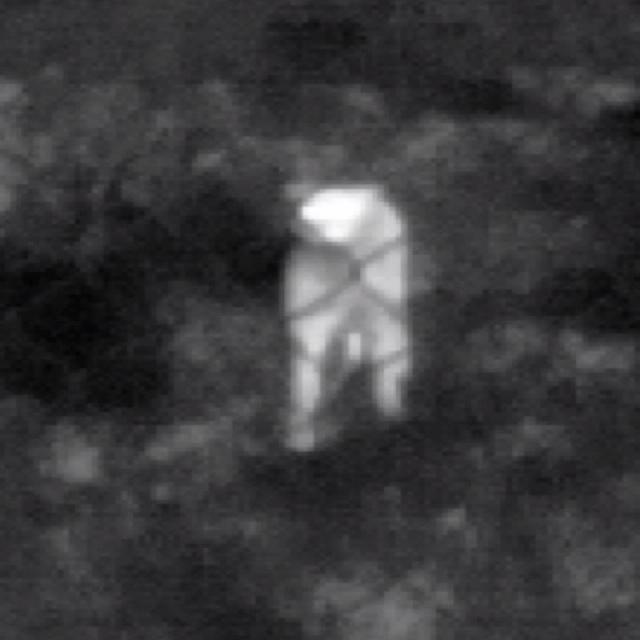cheetah: (284, 186, 413, 452)
